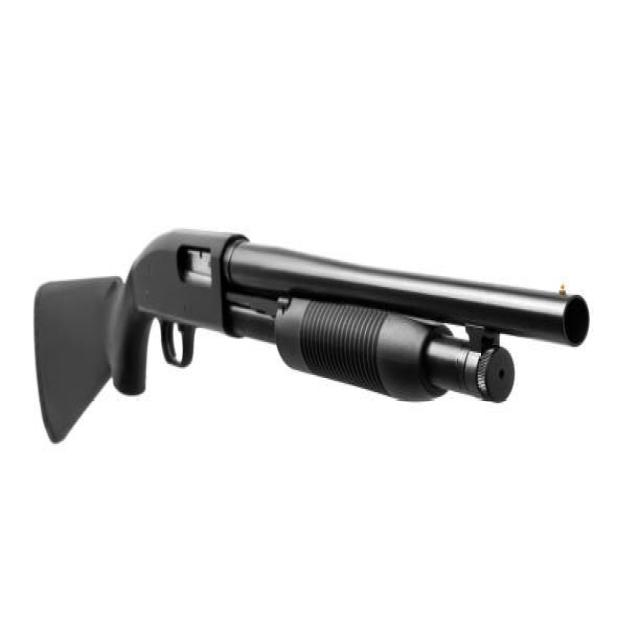rifle: (28, 218, 596, 454)
